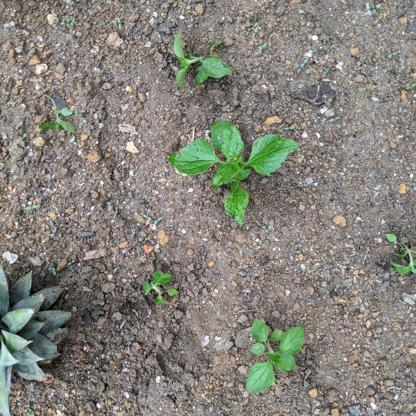pineapple: (1, 258, 75, 396)
weed: (172, 120, 299, 225), (244, 312, 309, 395), (170, 31, 232, 90), (33, 93, 81, 139), (377, 229, 416, 281), (142, 267, 181, 309)
